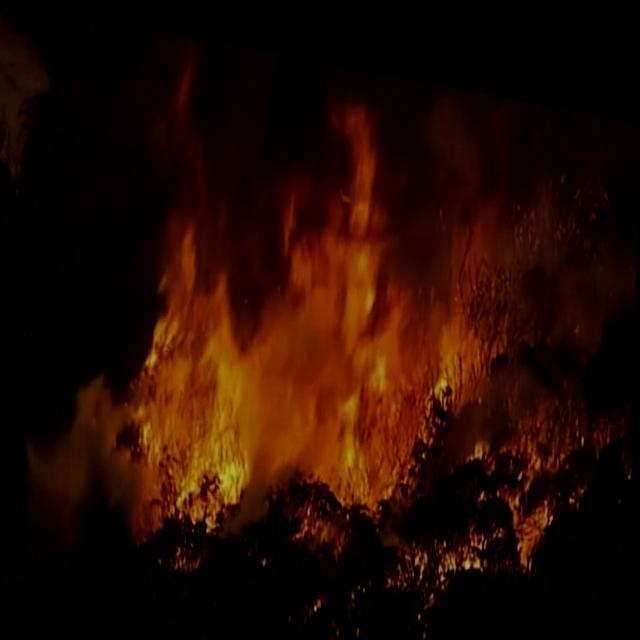Fire: (119, 31, 635, 639)
